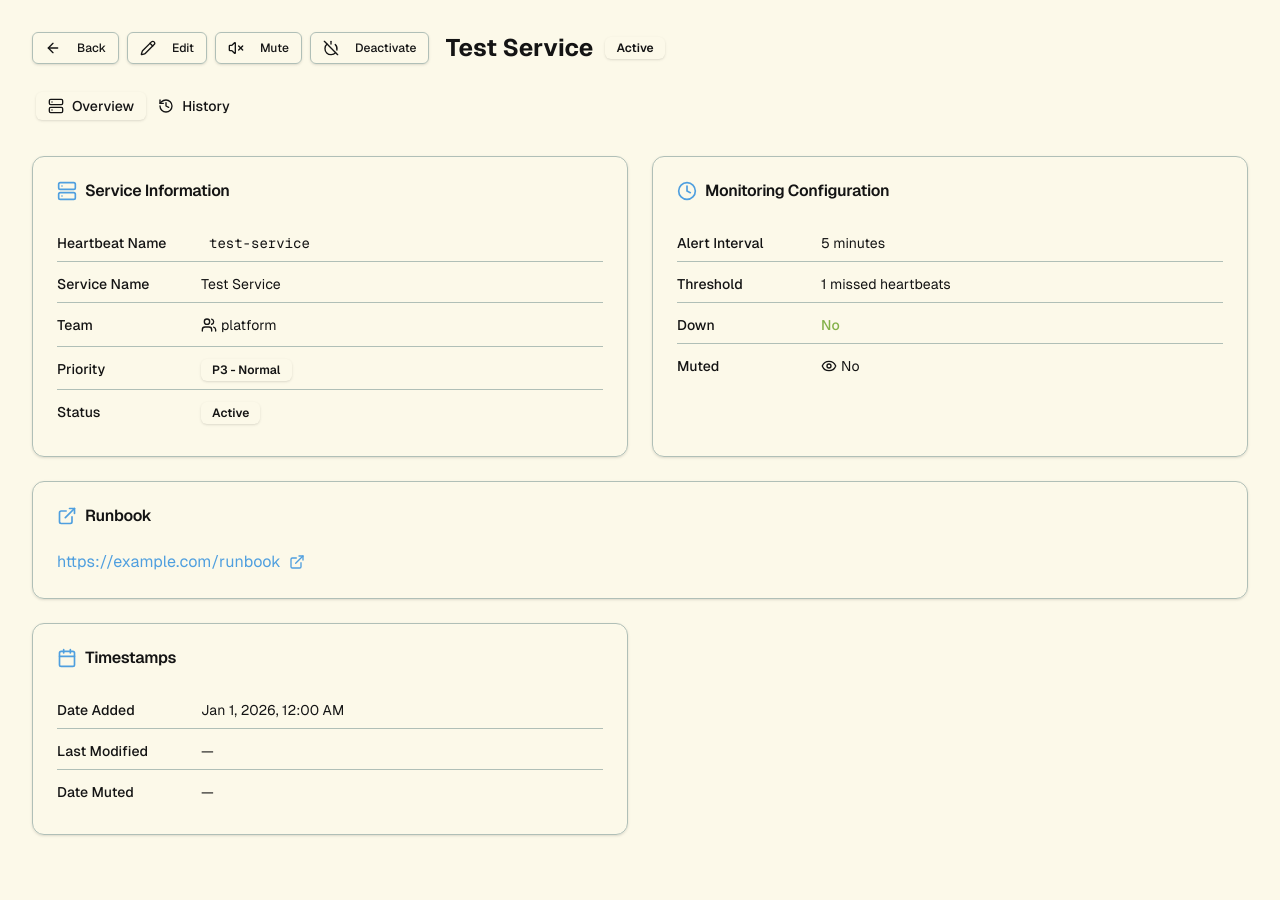
Test case: ServiceDetail - Edit Button › modal interaction › opens ServiceEditModal when Edit button is clicked
Click the button "Edit": [167, 48] box [127,32,207,64]
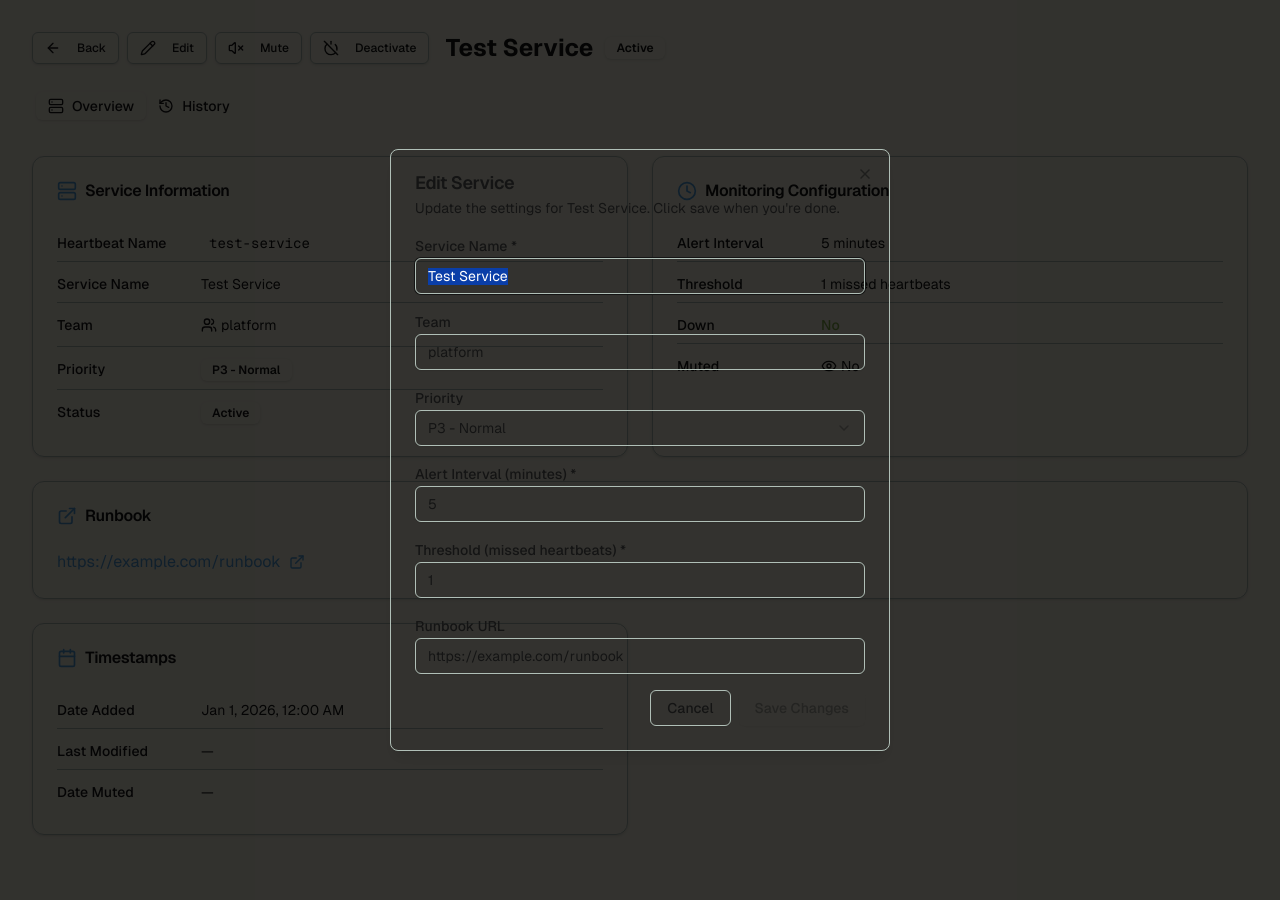
Now the dialog is shown, box [390,149,890,751]
Now the heading "Edit Service" is shown, box [415,172,514,193]
